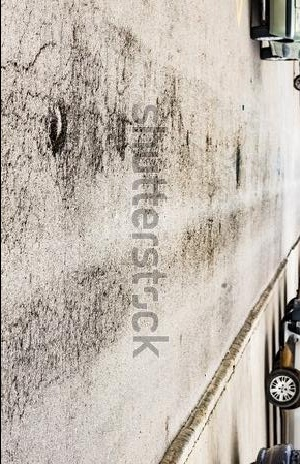pothole: (46, 98, 70, 156), (234, 141, 246, 190)
